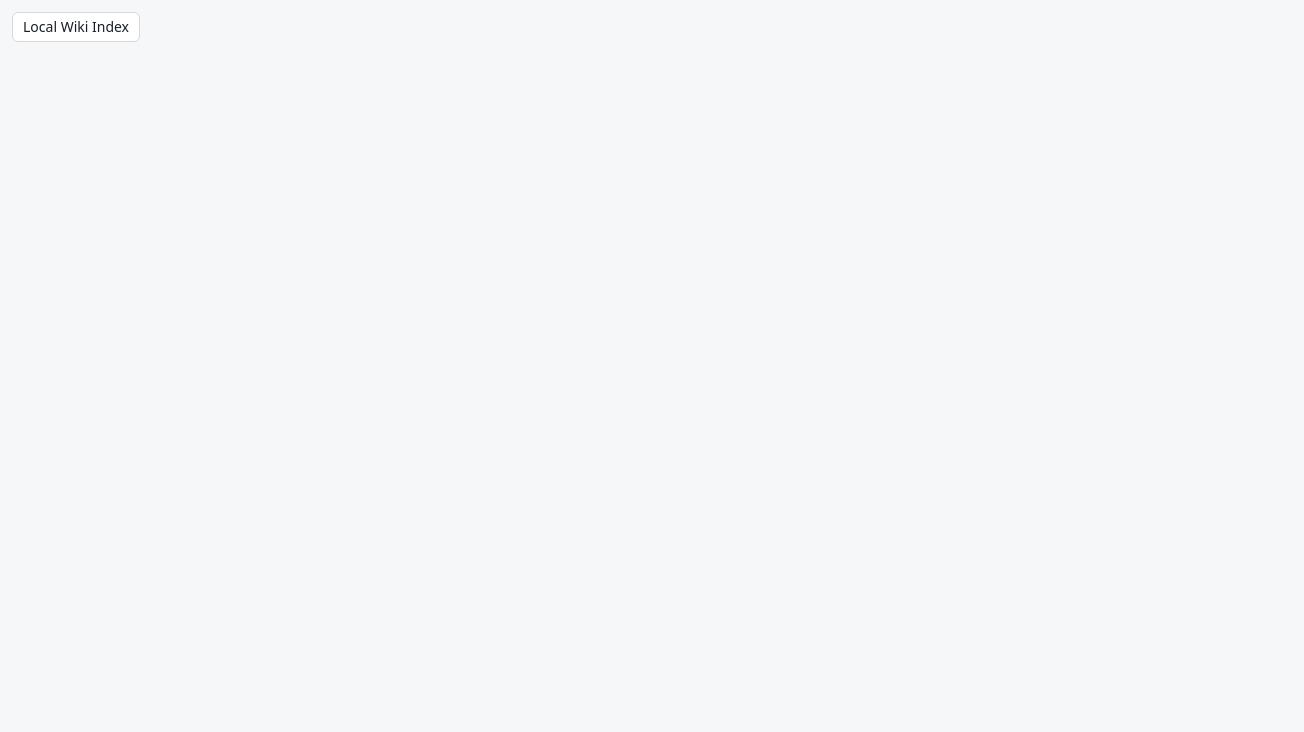
Test case: Local Wiki Index controls › keeps Local Tools Setup collapsed, reads device settings only when opened and has no credential field
Click the button "Local Wiki Index" at [76, 27], box [12, 12, 140, 42]
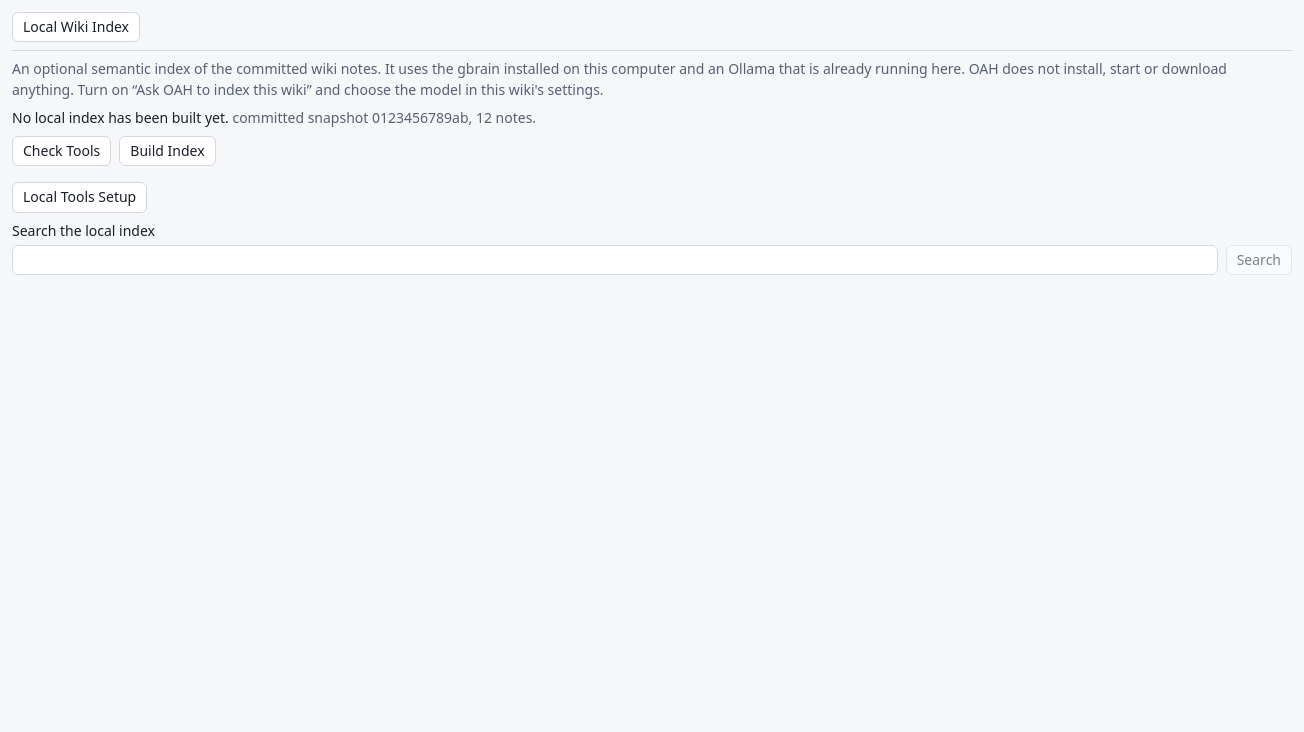
Click the button "Local Tools Setup" at [80, 198], box [12, 182, 147, 213]
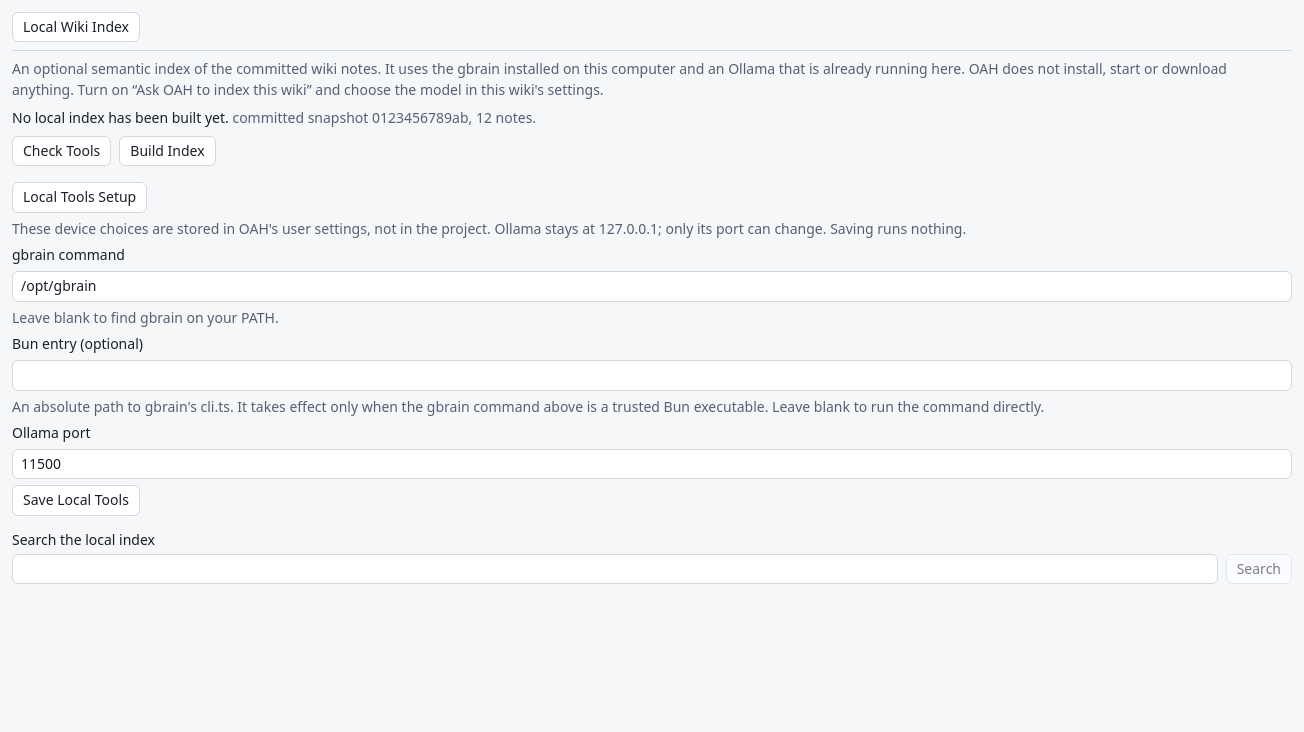
Now the form with class "wiki-index-setup-form" shows "OAH's user settings", box [12, 219, 966, 238]
Now the form with class "wiki-index-setup-form" shows "127.0.0.1", box [12, 219, 966, 238]
Now the form with class "wiki-index-setup-form" shows "trusted Bun executable", box [12, 397, 1044, 416]
